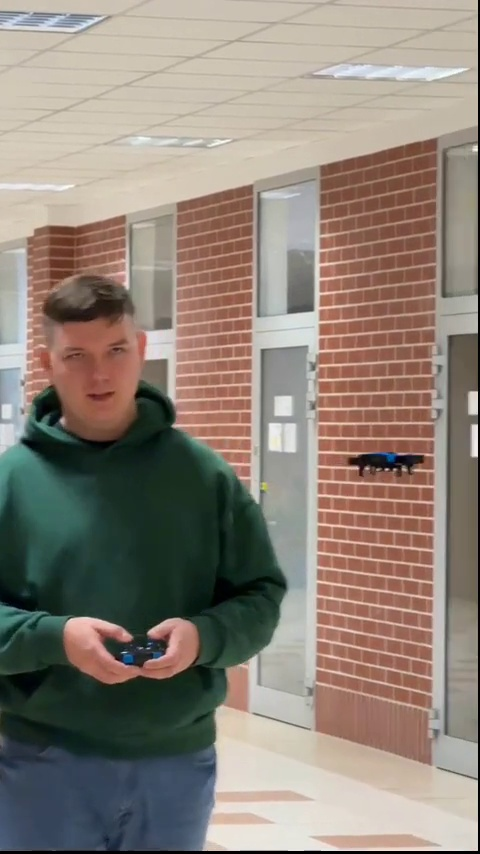drone: (342, 453, 429, 477)
no vest: (0, 272, 288, 828)
